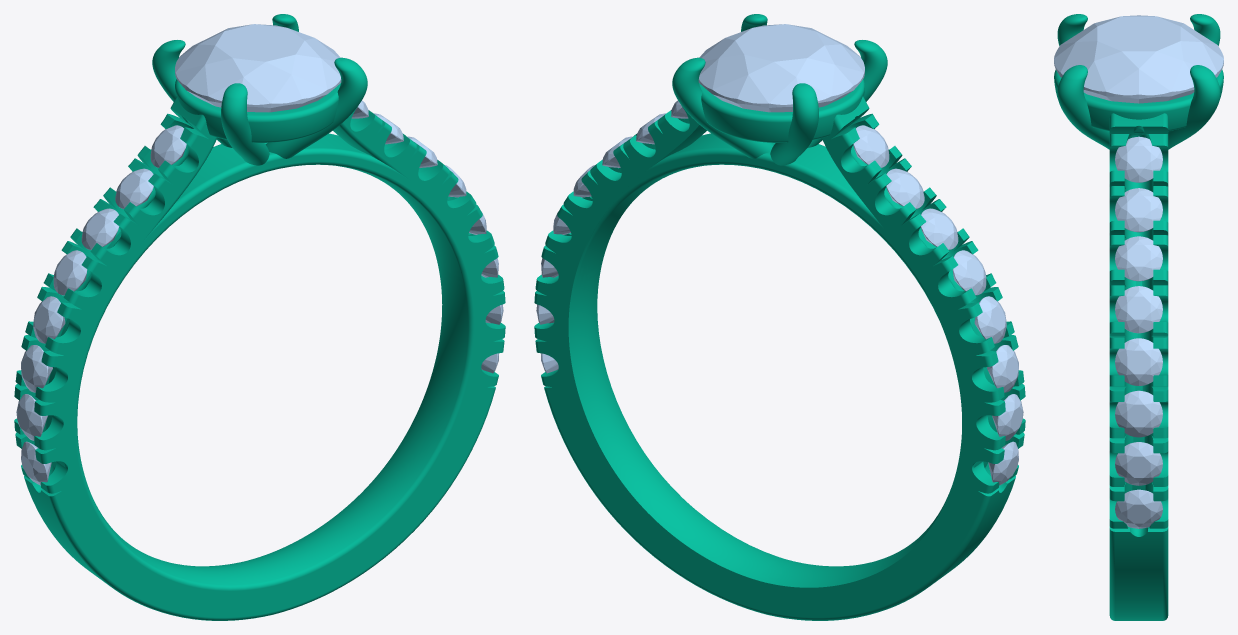
3 renders of one model, left to right at view 1: azimuth 30°, elevation 25°; view 2: azimuth 150°, elevation 25°; view 3: azimuth 270°, elevation 25°, orthographic.
Parts seen in each view (by area): view 1: side diamond.3dm, Diamond_Round, GemOnCrv (×8), Bezel; view 2: side diamond.3dm, Diamond_Round, GemOnCrv (×8), Bezel; view 3: side diamond.3dm, GemOnCrv (×8), Diamond_Round, Bezel.
Boxes of the visible parts, x1,y1,x2,y2 form: side diamond.3dm: (14,14,505,620); Diamond_Round: (175,24,341,112); GemOnCrv (×8): (16,125,186,485); Bezel: (175,79,340,142); side diamond.3dm: (534,14,1025,620); Diamond_Round: (698,24,864,112); GemOnCrv (×8): (853,125,1023,485); Bezel: (699,79,864,142); side diamond.3dm: (1057,14,1220,620); GemOnCrv (×8): (1115,136,1162,528); Diamond_Round: (1054,15,1223,103); Bezel: (1054,69,1223,133).
Size of the model in its own units: 2.59 by 2.94 by 0.8055.
